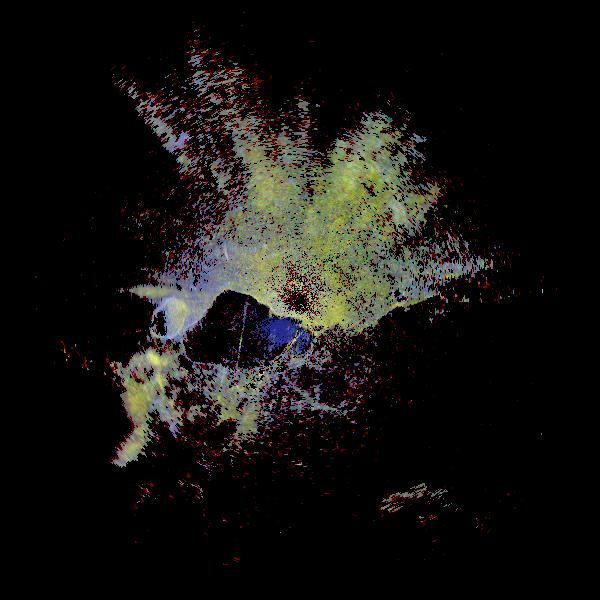roost: (31, 346, 187, 502)
